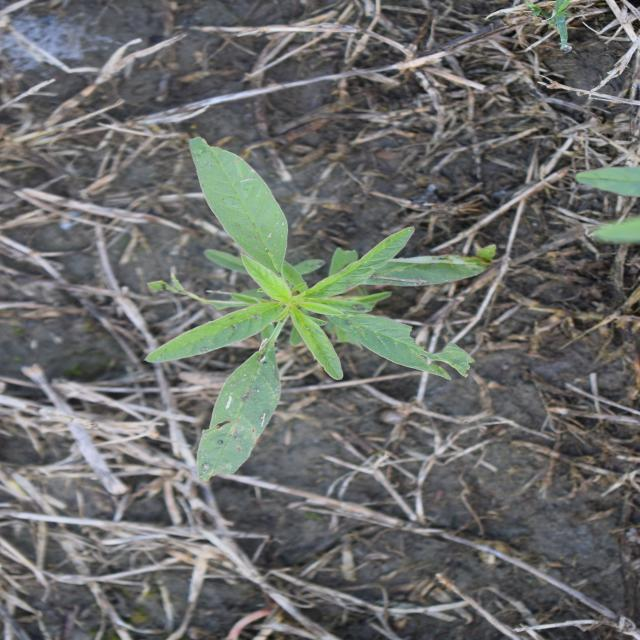Waterhemp: (140, 136, 498, 486)
